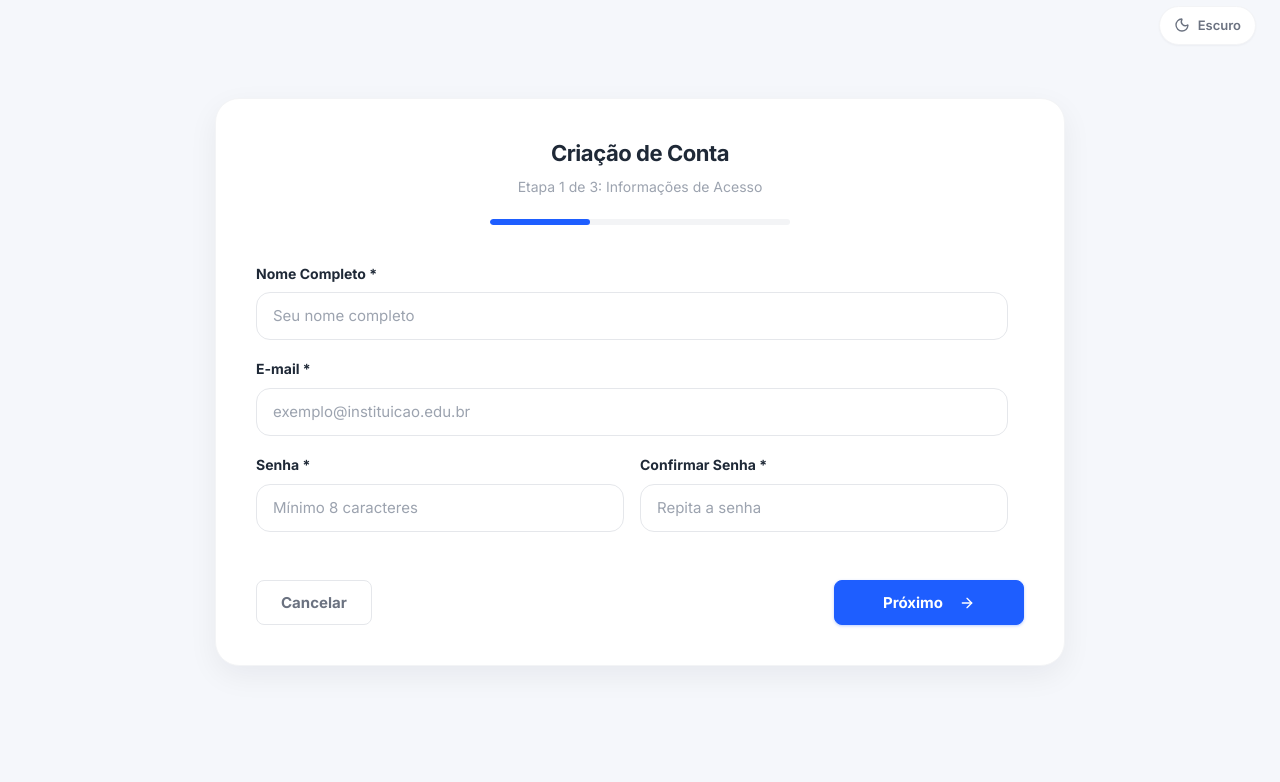
Verificação de E-mail, Reconhecimento @ifc.edu.br e Conformidade LGPD no Cadastro › Bloqueia o envio do cadastro na Etapa 3 se os Termos de Uso e Política de Privacidade (LGPD) não forem aceitos
Type "Treinador LGPD" into the field with placeholder "Seu nome completo" at x=632, y=316, box [256,292,1008,340]
Type "lgpd@ifc.edu.br" into the field with placeholder "exemplo@instituicao.edu.br" at x=632, y=412, box [256,388,1008,436]
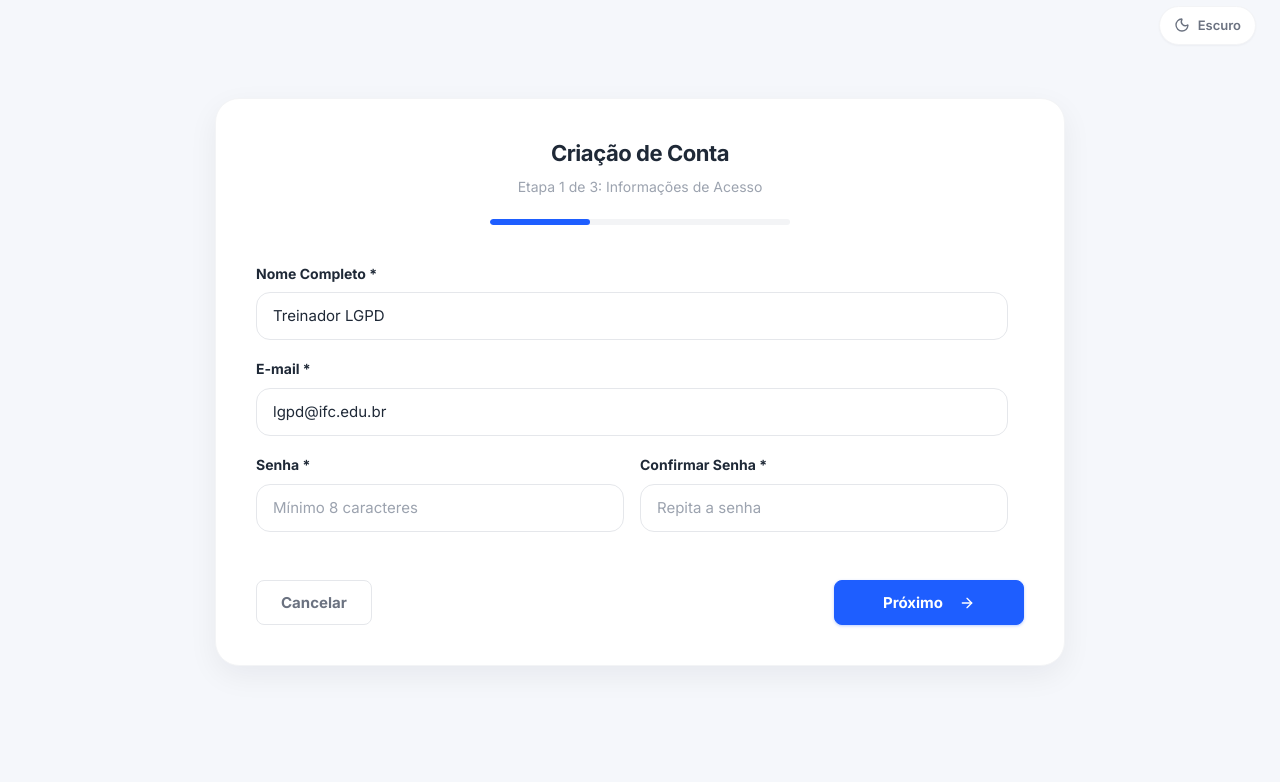
Type "12345678" into the password field with placeholder "Mínimo 8 caracteres" at x=440, y=508, box [256,484,624,532]
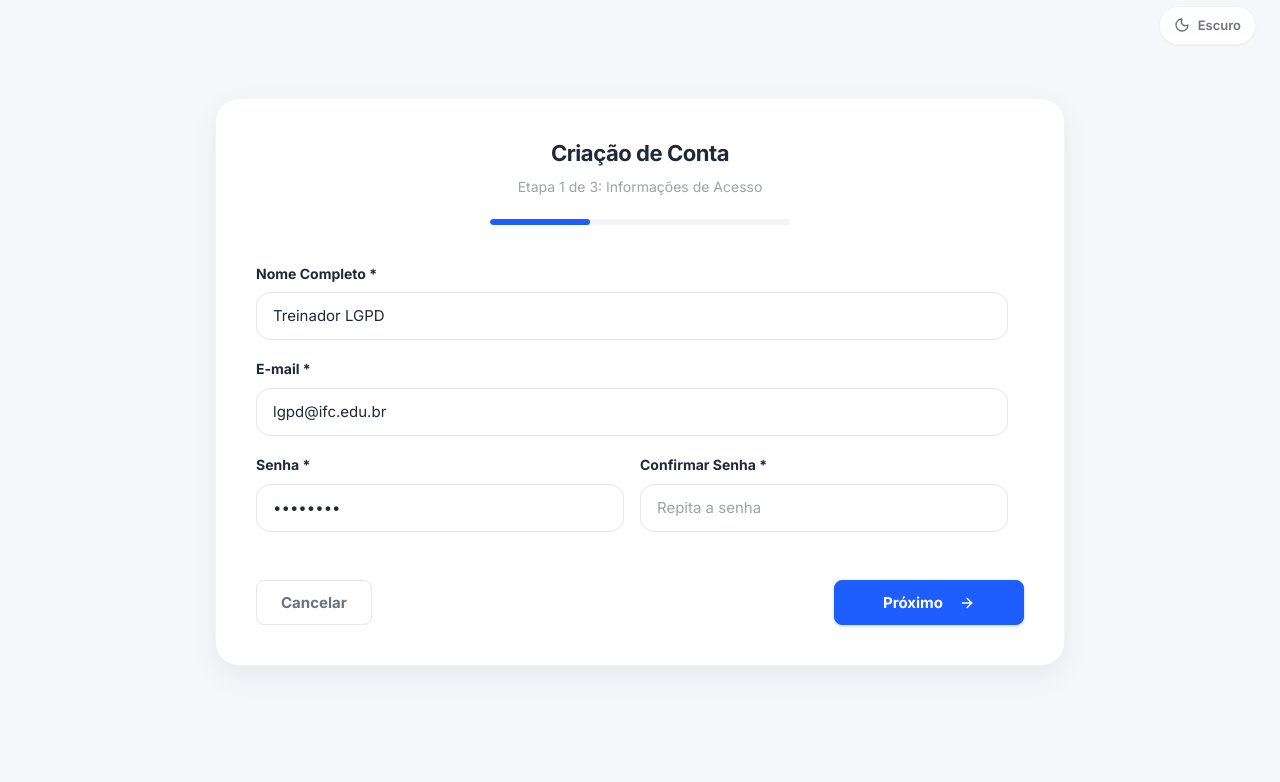
Type "12345678" into the password field with placeholder "Repita a senha" at x=824, y=508, box [640,484,1008,532]
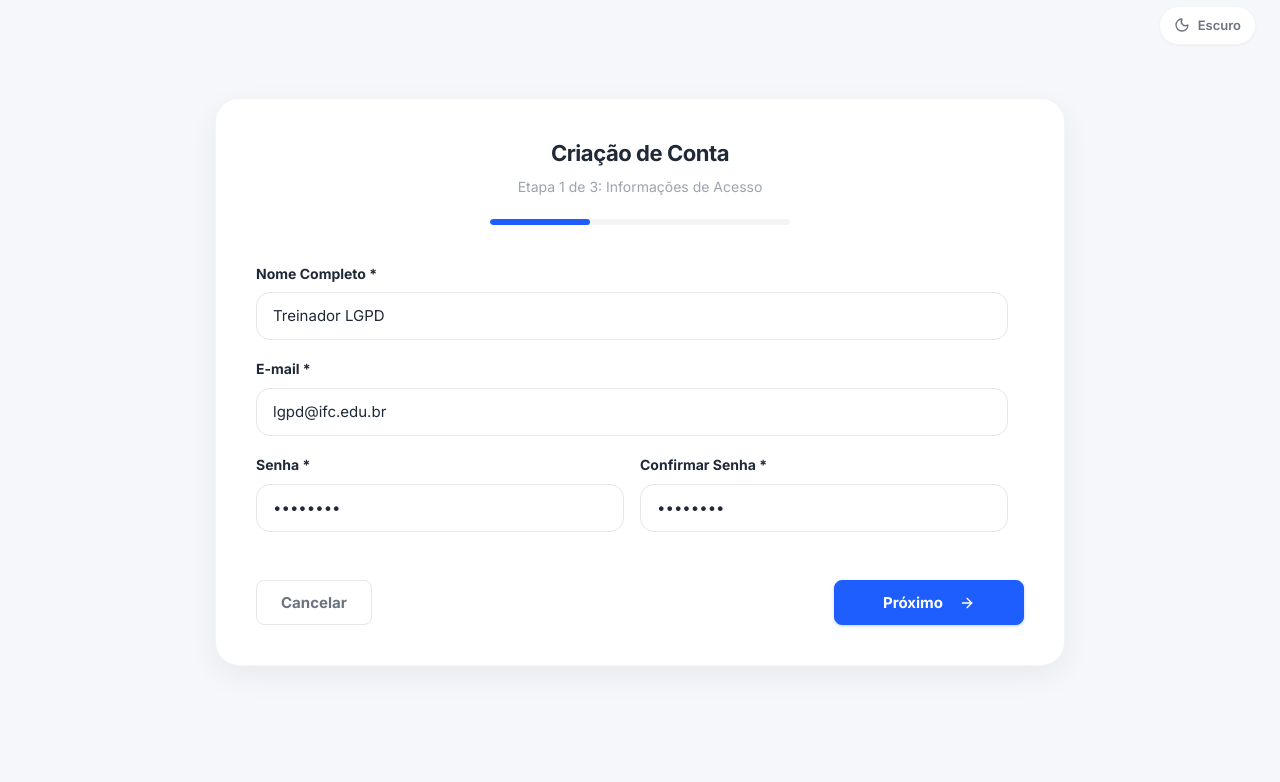
Click the button "Próximo" at x=929, y=603, box [834,580,1024,625]
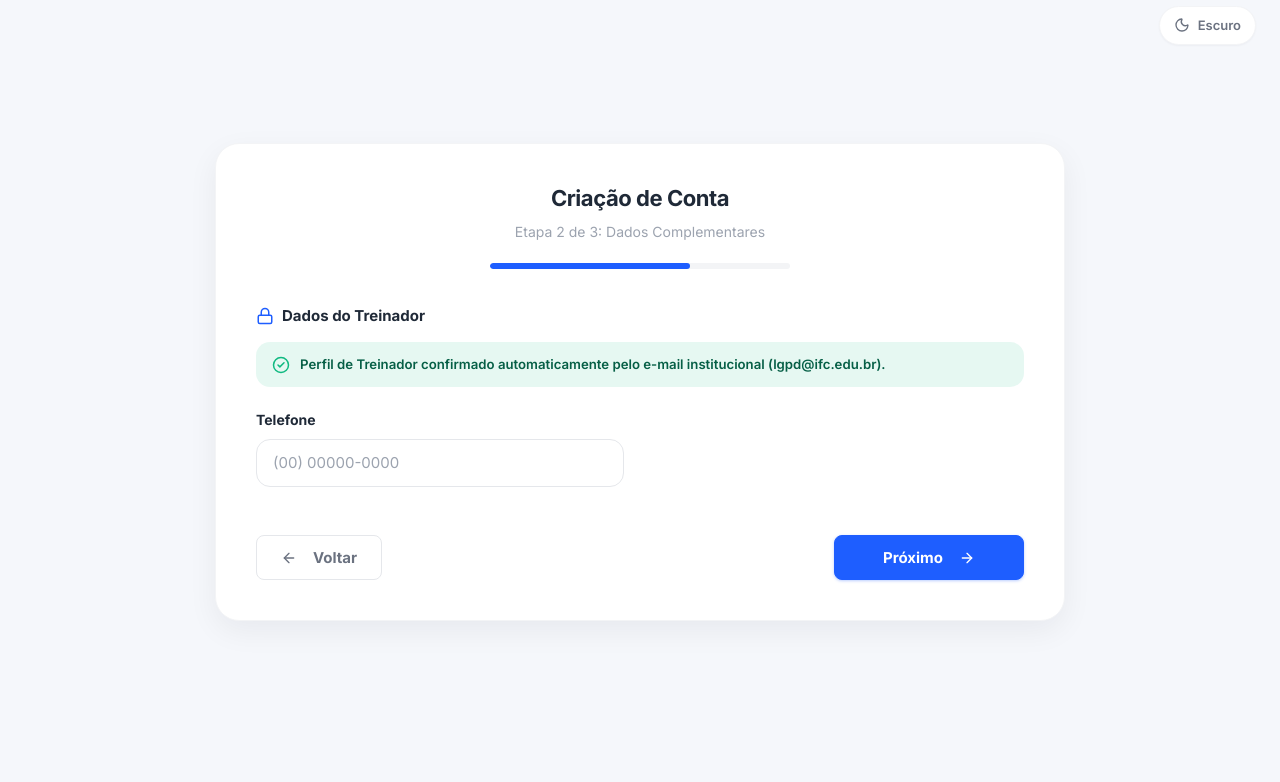
Check: the text "Perfil de Treinador confirmado automaticamente" is shown, box [300,356,773,372]
Click the button "Próximo" at x=929, y=558, box [834,535,1024,580]
(page scrolled)
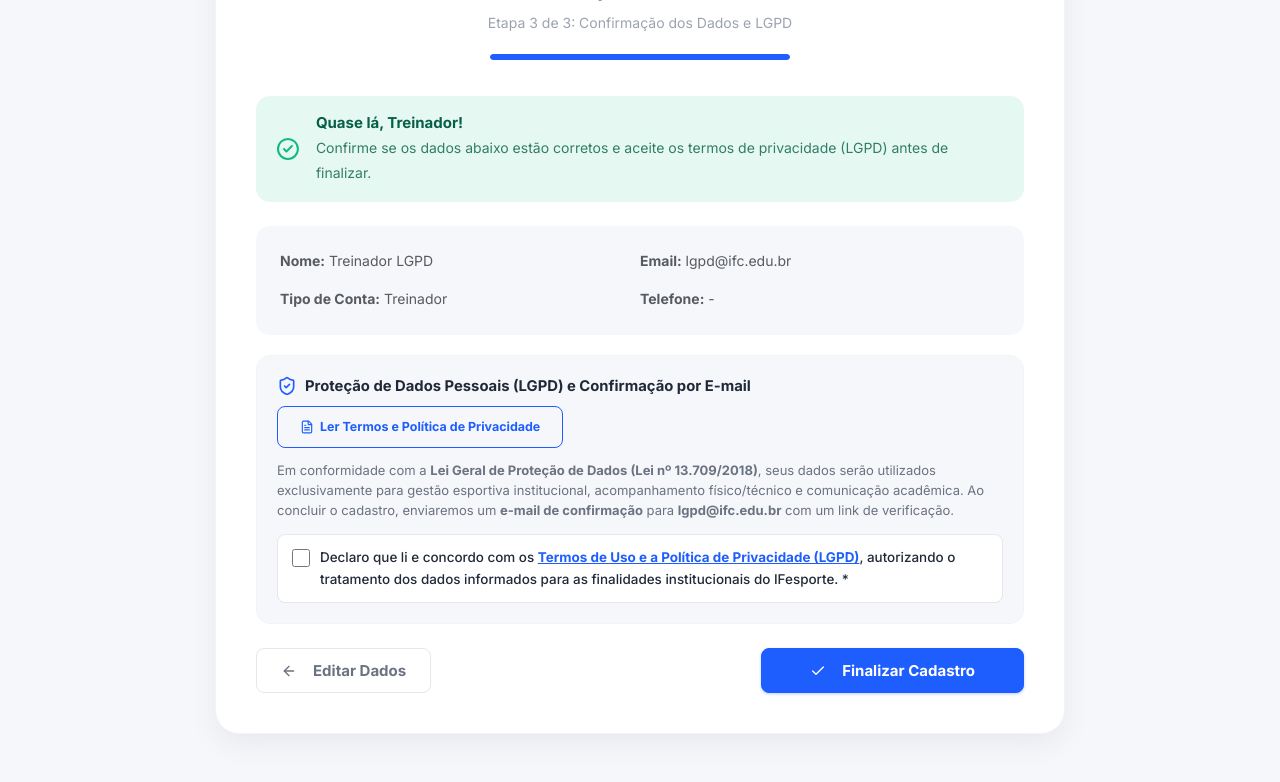
Note: Etapa 3 - Tentar finalizar sem aceitar LGPD
Click the button "Finalizar Cadastro" at x=893, y=671, box [761,648,1024,693]
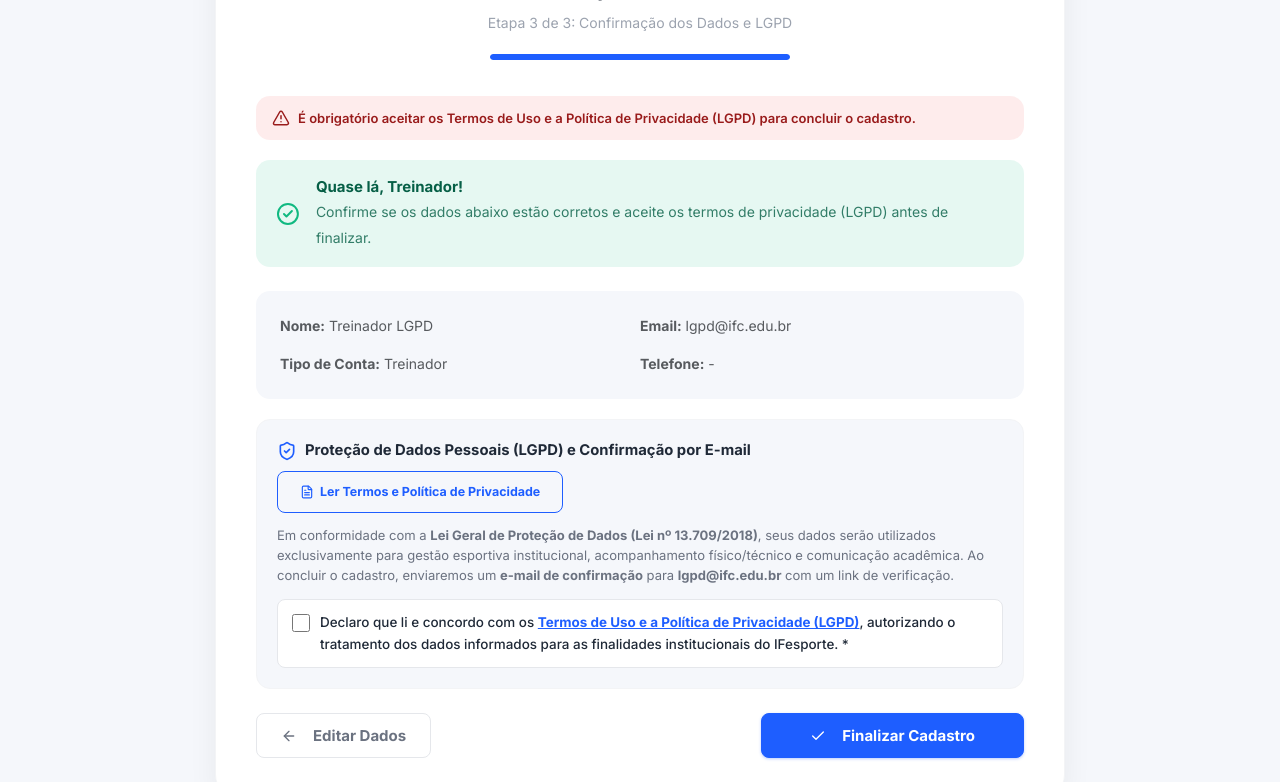
Check: the text "É obrigatório aceitar os Termos de Uso e a Política de Privacidade (LGPD)" is shown, box [298,110,916,126]
